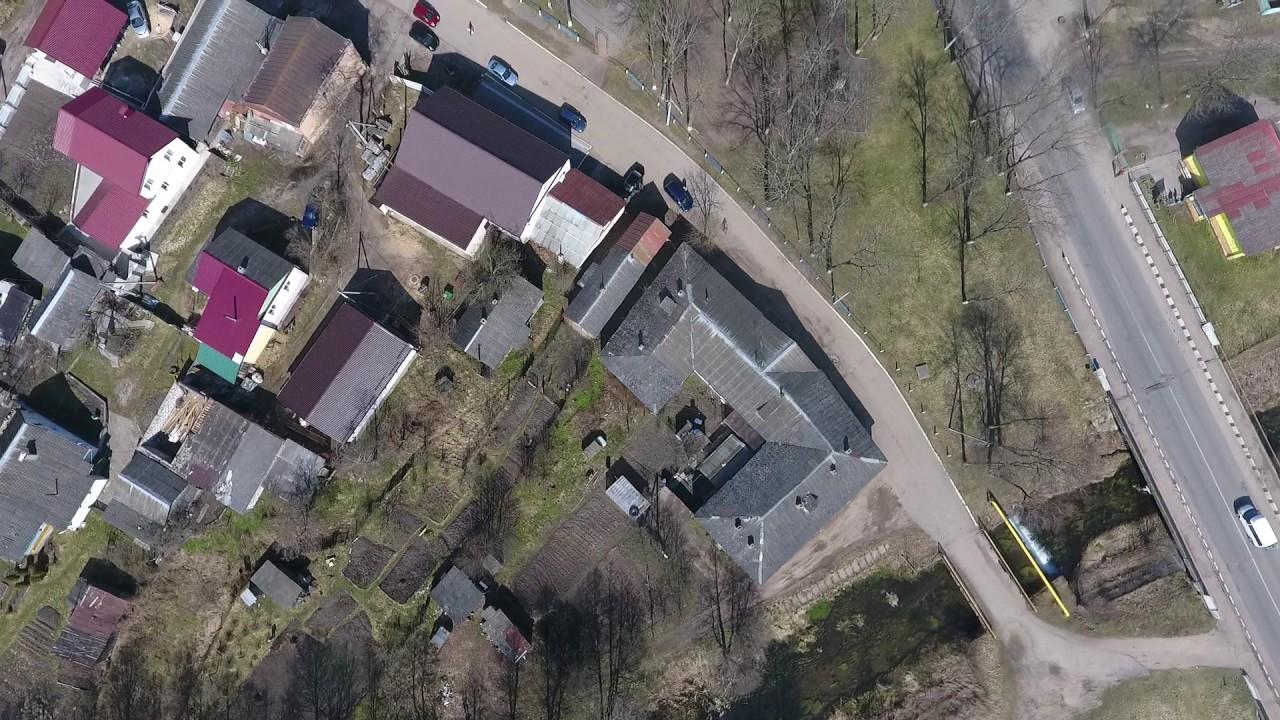build: (595, 237, 896, 594), (367, 68, 635, 268), (141, 2, 376, 164), (49, 82, 211, 264), (271, 296, 425, 442), (163, 384, 334, 510), (1, 373, 108, 570), (185, 223, 314, 372), (558, 203, 679, 337), (1180, 115, 1280, 258), (452, 261, 548, 371), (25, 1, 133, 80), (110, 455, 198, 536)
